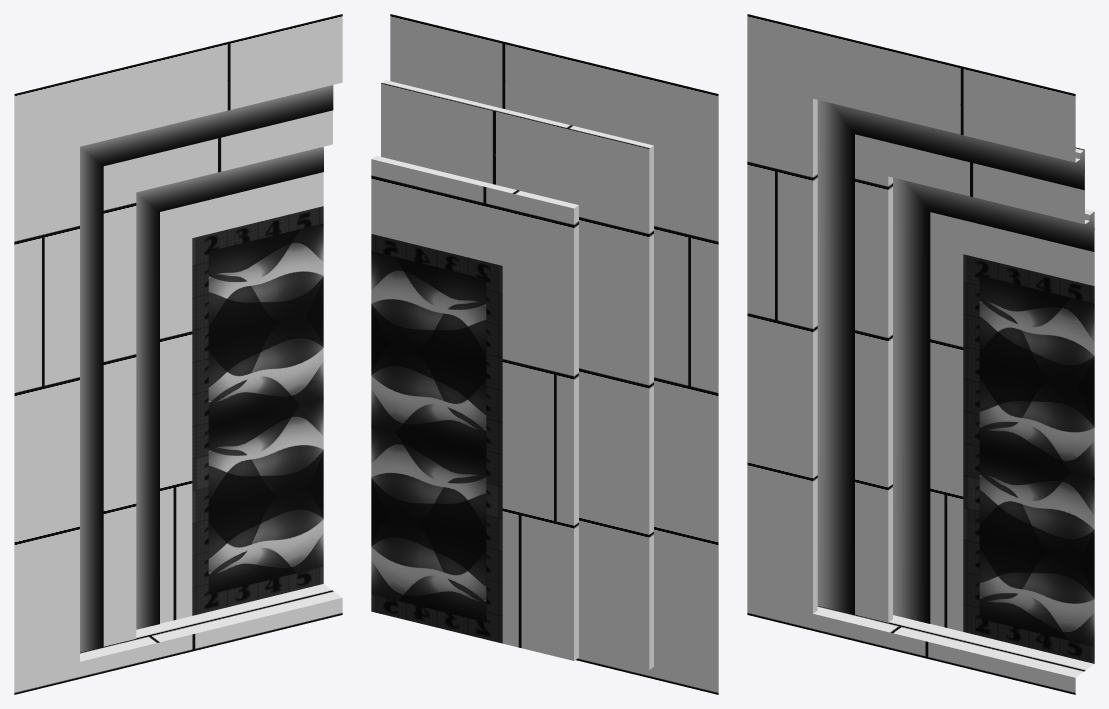
Rendered from WallNiche02_4_200x350cm.FBX.
The picture shows the model from 3 angles, left to right: view 1: azimuth 30°, elevation 25°; view 2: azimuth 150°, elevation 25°; view 3: azimuth 330°, elevation 25°; orthographic projection.
Visible parts, largest first — view 1: Wall, Backlight; view 2: Wall; view 3: Wall, Backlight.
Boxes of the visible parts, <box> form: Wall: <box>14,14,342,694</box>; Backlight: <box>80,85,333,652</box>; Wall: <box>371,14,718,694</box>; Wall: <box>747,14,1094,694</box>; Backlight: <box>817,100,1094,623</box>.
Size of the model in its own units: 200 by 350 by 20.
